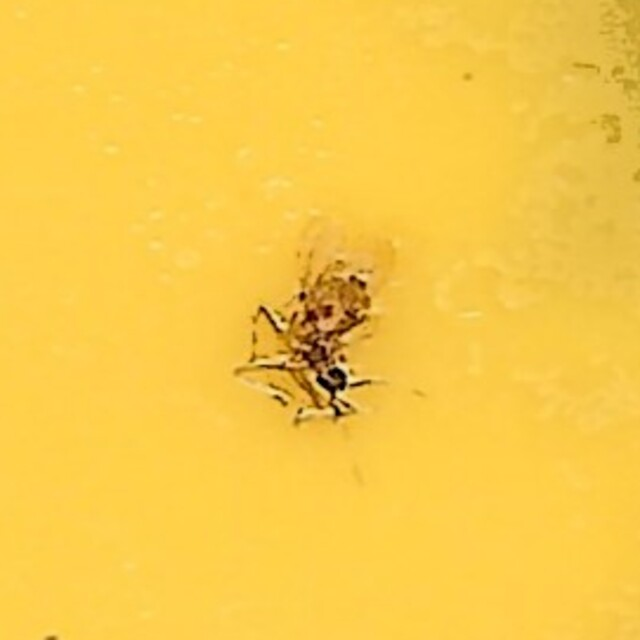Nematocera: (236, 213, 404, 427)
